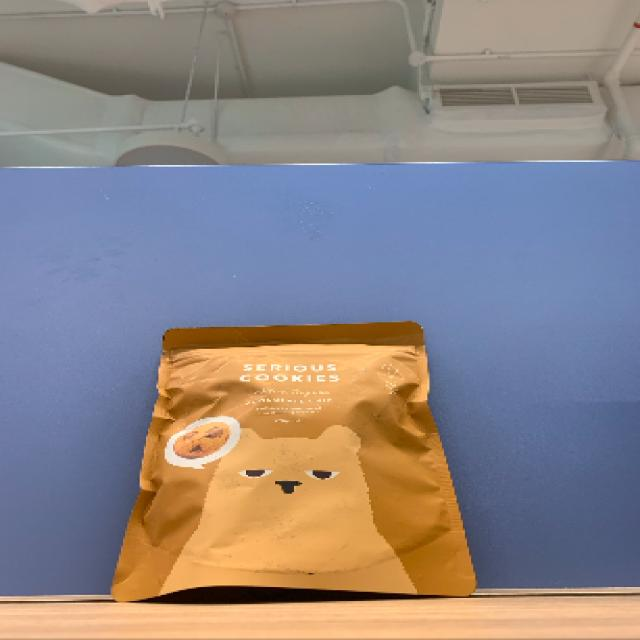object_name: (140, 328, 459, 594)
